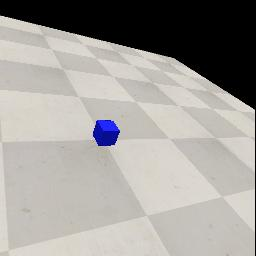box: (93, 120, 120, 146)
